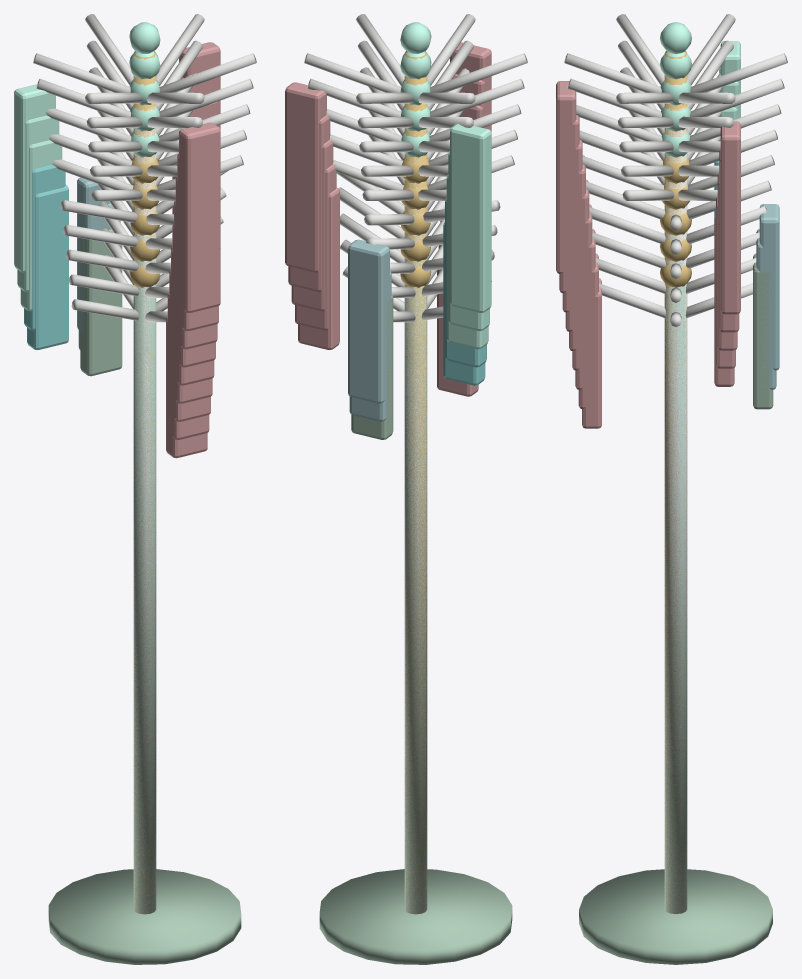
The model's file is Gear03.fbx.
3 renders of one model, left to right at view 1: azimuth 30°, elevation 25°; view 2: azimuth 150°, elevation 25°; view 3: azimuth 270°, elevation 25°, orthographic.
Parts seen in each view (by area): view 1: Gear03_V1_Sage, Gear03_V10_Rose, Gear03_V2_Blue, Gear03_V6_Aqua, Gear03_V10_Chrome, Gear03_V8_Chrome, Gear03_V4_Chrome, Gear03_V9_Chrome, Gear03_V3_Sage, Gear03_V10_Glow, Gear03_V10_Gold, Gear03_V7_Chrome (+20 smaller); view 2: Gear03_V1_Sage, Gear03_V10_Gold, Gear03_V10_Glow, Gear03_V10_Rose, Gear03_V5_Blue, Gear03_V2_Blue, Gear03_V10_Chrome, Gear03_V4_Chrome, Gear03_V9_Chrome, Gear03_V6_Chrome, Gear03_V8_Chrome, Gear03_V3_Blue (+17 smaller); view 3: Gear03_V1_Sage, Gear03_V10_Rose, Gear03_V8_Chrome, Gear03_V5_Chrome, Gear03_V10_Chrome, Gear03_V7_Chrome, Gear03_V10_Gold, Gear03_V4_Chrome, Gear03_V9_Chrome, Gear03_V2_Blue, Gear03_V6_Chrome, Gear03_V5_Blue (+18 smaller).
Part boxes in pixels (left/top/right/bottom): Gear03_V1_Sage: left=48, top=284, right=241, bottom=964; Gear03_V10_Rose: left=179, top=42, right=220, bottom=312; Gear03_V2_Blue: left=134, top=259, right=156, bottom=914; Gear03_V6_Aqua: left=27, top=184, right=68, bottom=349; Gear03_V10_Chrome: left=33, top=14, right=256, bottom=103; Gear03_V8_Chrome: left=45, top=67, right=250, bottom=910; Gear03_V4_Chrome: left=63, top=184, right=226, bottom=913; Gear03_V9_Chrome: left=36, top=40, right=253, bottom=128; Gear03_V3_Sage: left=80, top=229, right=122, bottom=376; Gear03_V10_Glow: left=14, top=22, right=160, bottom=272; Gear03_V10_Gold: left=133, top=51, right=156, bottom=913; Gear03_V7_Chrome: left=49, top=110, right=246, bottom=911; Gear03_V1_Sage: left=319, top=287, right=512, bottom=964; Gear03_V10_Gold: left=404, top=50, right=427, bottom=913; Gear03_V10_Glow: left=400, top=22, right=491, bottom=312; Gear03_V10_Rose: left=285, top=42, right=491, bottom=272; Gear03_V5_Blue: left=348, top=239, right=389, bottom=403; Gear03_V2_Blue: left=404, top=260, right=427, bottom=913; Gear03_V10_Chrome: left=304, top=14, right=527, bottom=103; Gear03_V4_Chrome: left=339, top=187, right=497, bottom=912; Gear03_V9_Chrome: left=307, top=40, right=524, bottom=128; Gear03_V6_Chrome: left=333, top=135, right=514, bottom=911; Gear03_V8_Chrome: left=326, top=67, right=521, bottom=910; Gear03_V3_Blue: left=405, top=233, right=427, bottom=913; Gear03_V1_Sage: left=579, top=286, right=772, bottom=964; Gear03_V10_Rose: left=556, top=81, right=740, bottom=314; Gear03_V8_Chrome: left=576, top=67, right=781, bottom=904; Gear03_V5_Chrome: left=586, top=180, right=771, bottom=912; Gear03_V10_Chrome: left=564, top=14, right=787, bottom=103; Gear03_V7_Chrome: left=579, top=110, right=777, bottom=908; Gear03_V10_Gold: left=664, top=51, right=687, bottom=913; Gear03_V4_Chrome: left=589, top=206, right=766, bottom=912; Gear03_V9_Chrome: left=567, top=40, right=784, bottom=128; Gear03_V2_Blue: left=664, top=261, right=687, bottom=913; Gear03_V6_Chrome: left=582, top=135, right=774, bottom=910; Gear03_V5_Blue: left=759, top=204, right=779, bottom=370.
Bounding box in the file's own units: 57.11 × 246 × 57.42.
